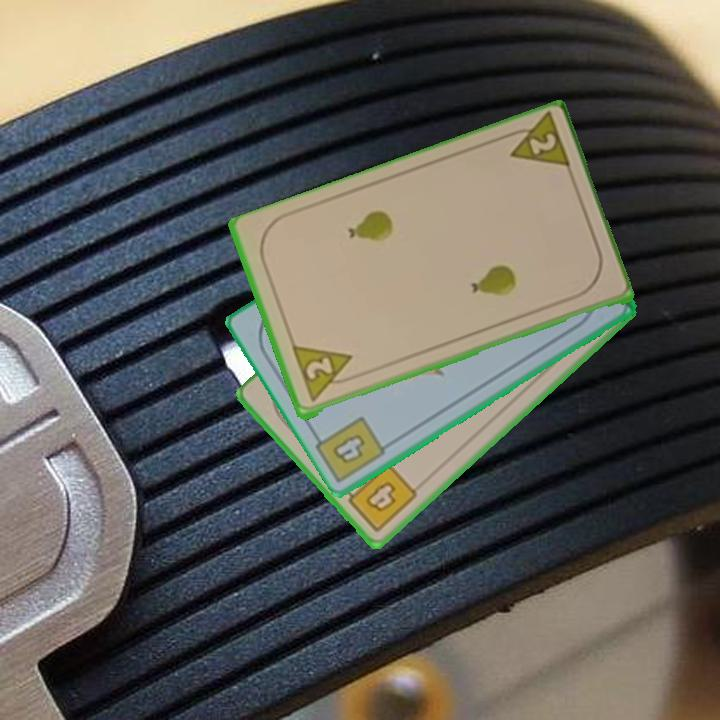2p: (498, 112, 574, 175), (288, 343, 360, 405)
4b: (339, 460, 421, 536), (328, 430, 368, 468)
